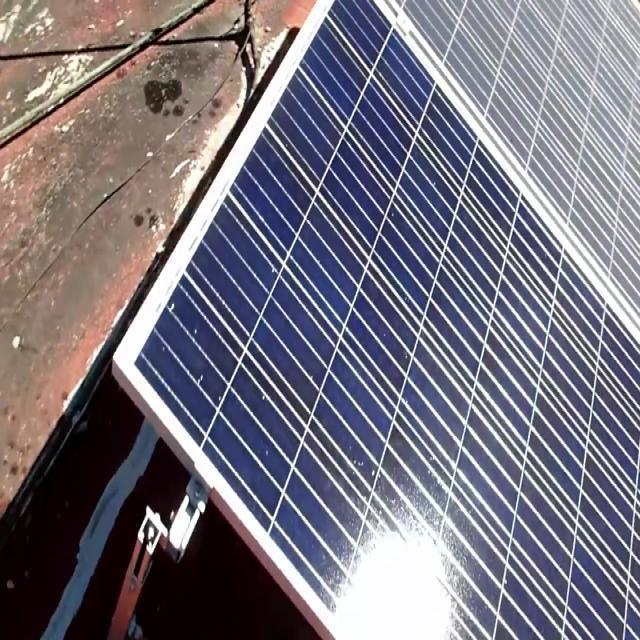Normal Solar Panel: (136, 3, 640, 639)
